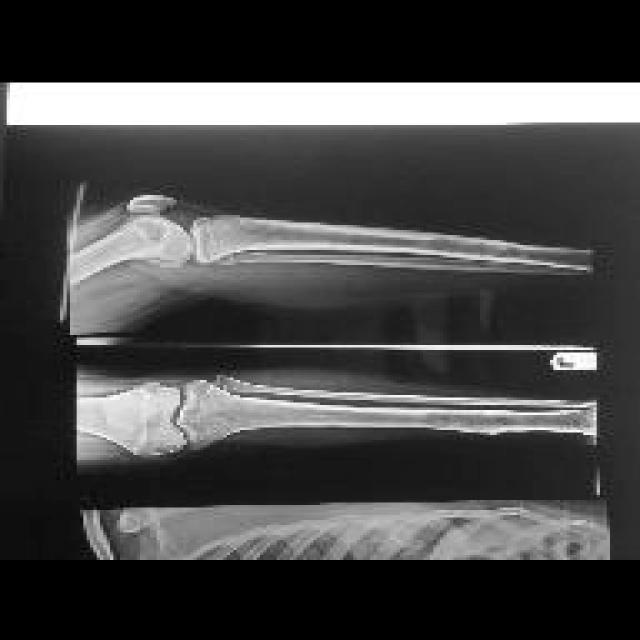bone-cancer: (383, 229, 552, 262), (383, 411, 578, 434)
